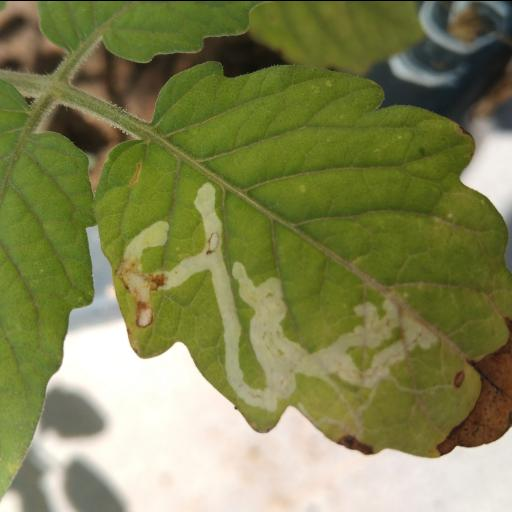disease_tomato: (90, 59, 512, 459)
